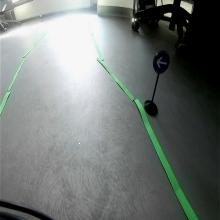left: (152, 49, 170, 75)
